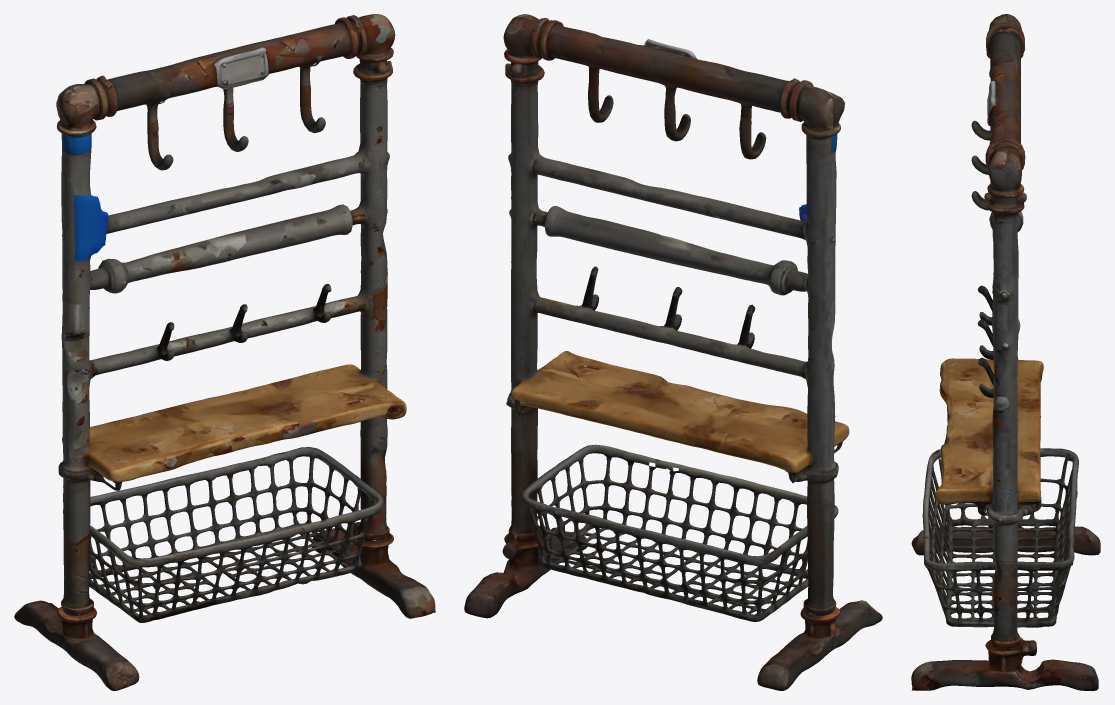
File: g67_style_rack.glb
3 views of the same model, side by side, from view 1: azimuth 30°, elevation 25°; view 2: azimuth 150°, elevation 25°; view 3: azimuth 270°, elevation 25° (orthographic). The views are drawn at different scales.
Parts seen in each view (by area): view 1: tripo_node_ce922f12; view 2: tripo_node_ce922f12; view 3: tripo_node_ce922f12.
Part boxes in pixels (left/top/right/bottom): tripo_node_ce922f12: left=14, top=14, right=435, bottom=690; tripo_node_ce922f12: left=464, top=14, right=882, bottom=690; tripo_node_ce922f12: left=911, top=14, right=1100, bottom=690.
Bounding box in the file's own units: 60.11 × 97.71 × 31.27.
Materials: 1 (1 with a texture image).
